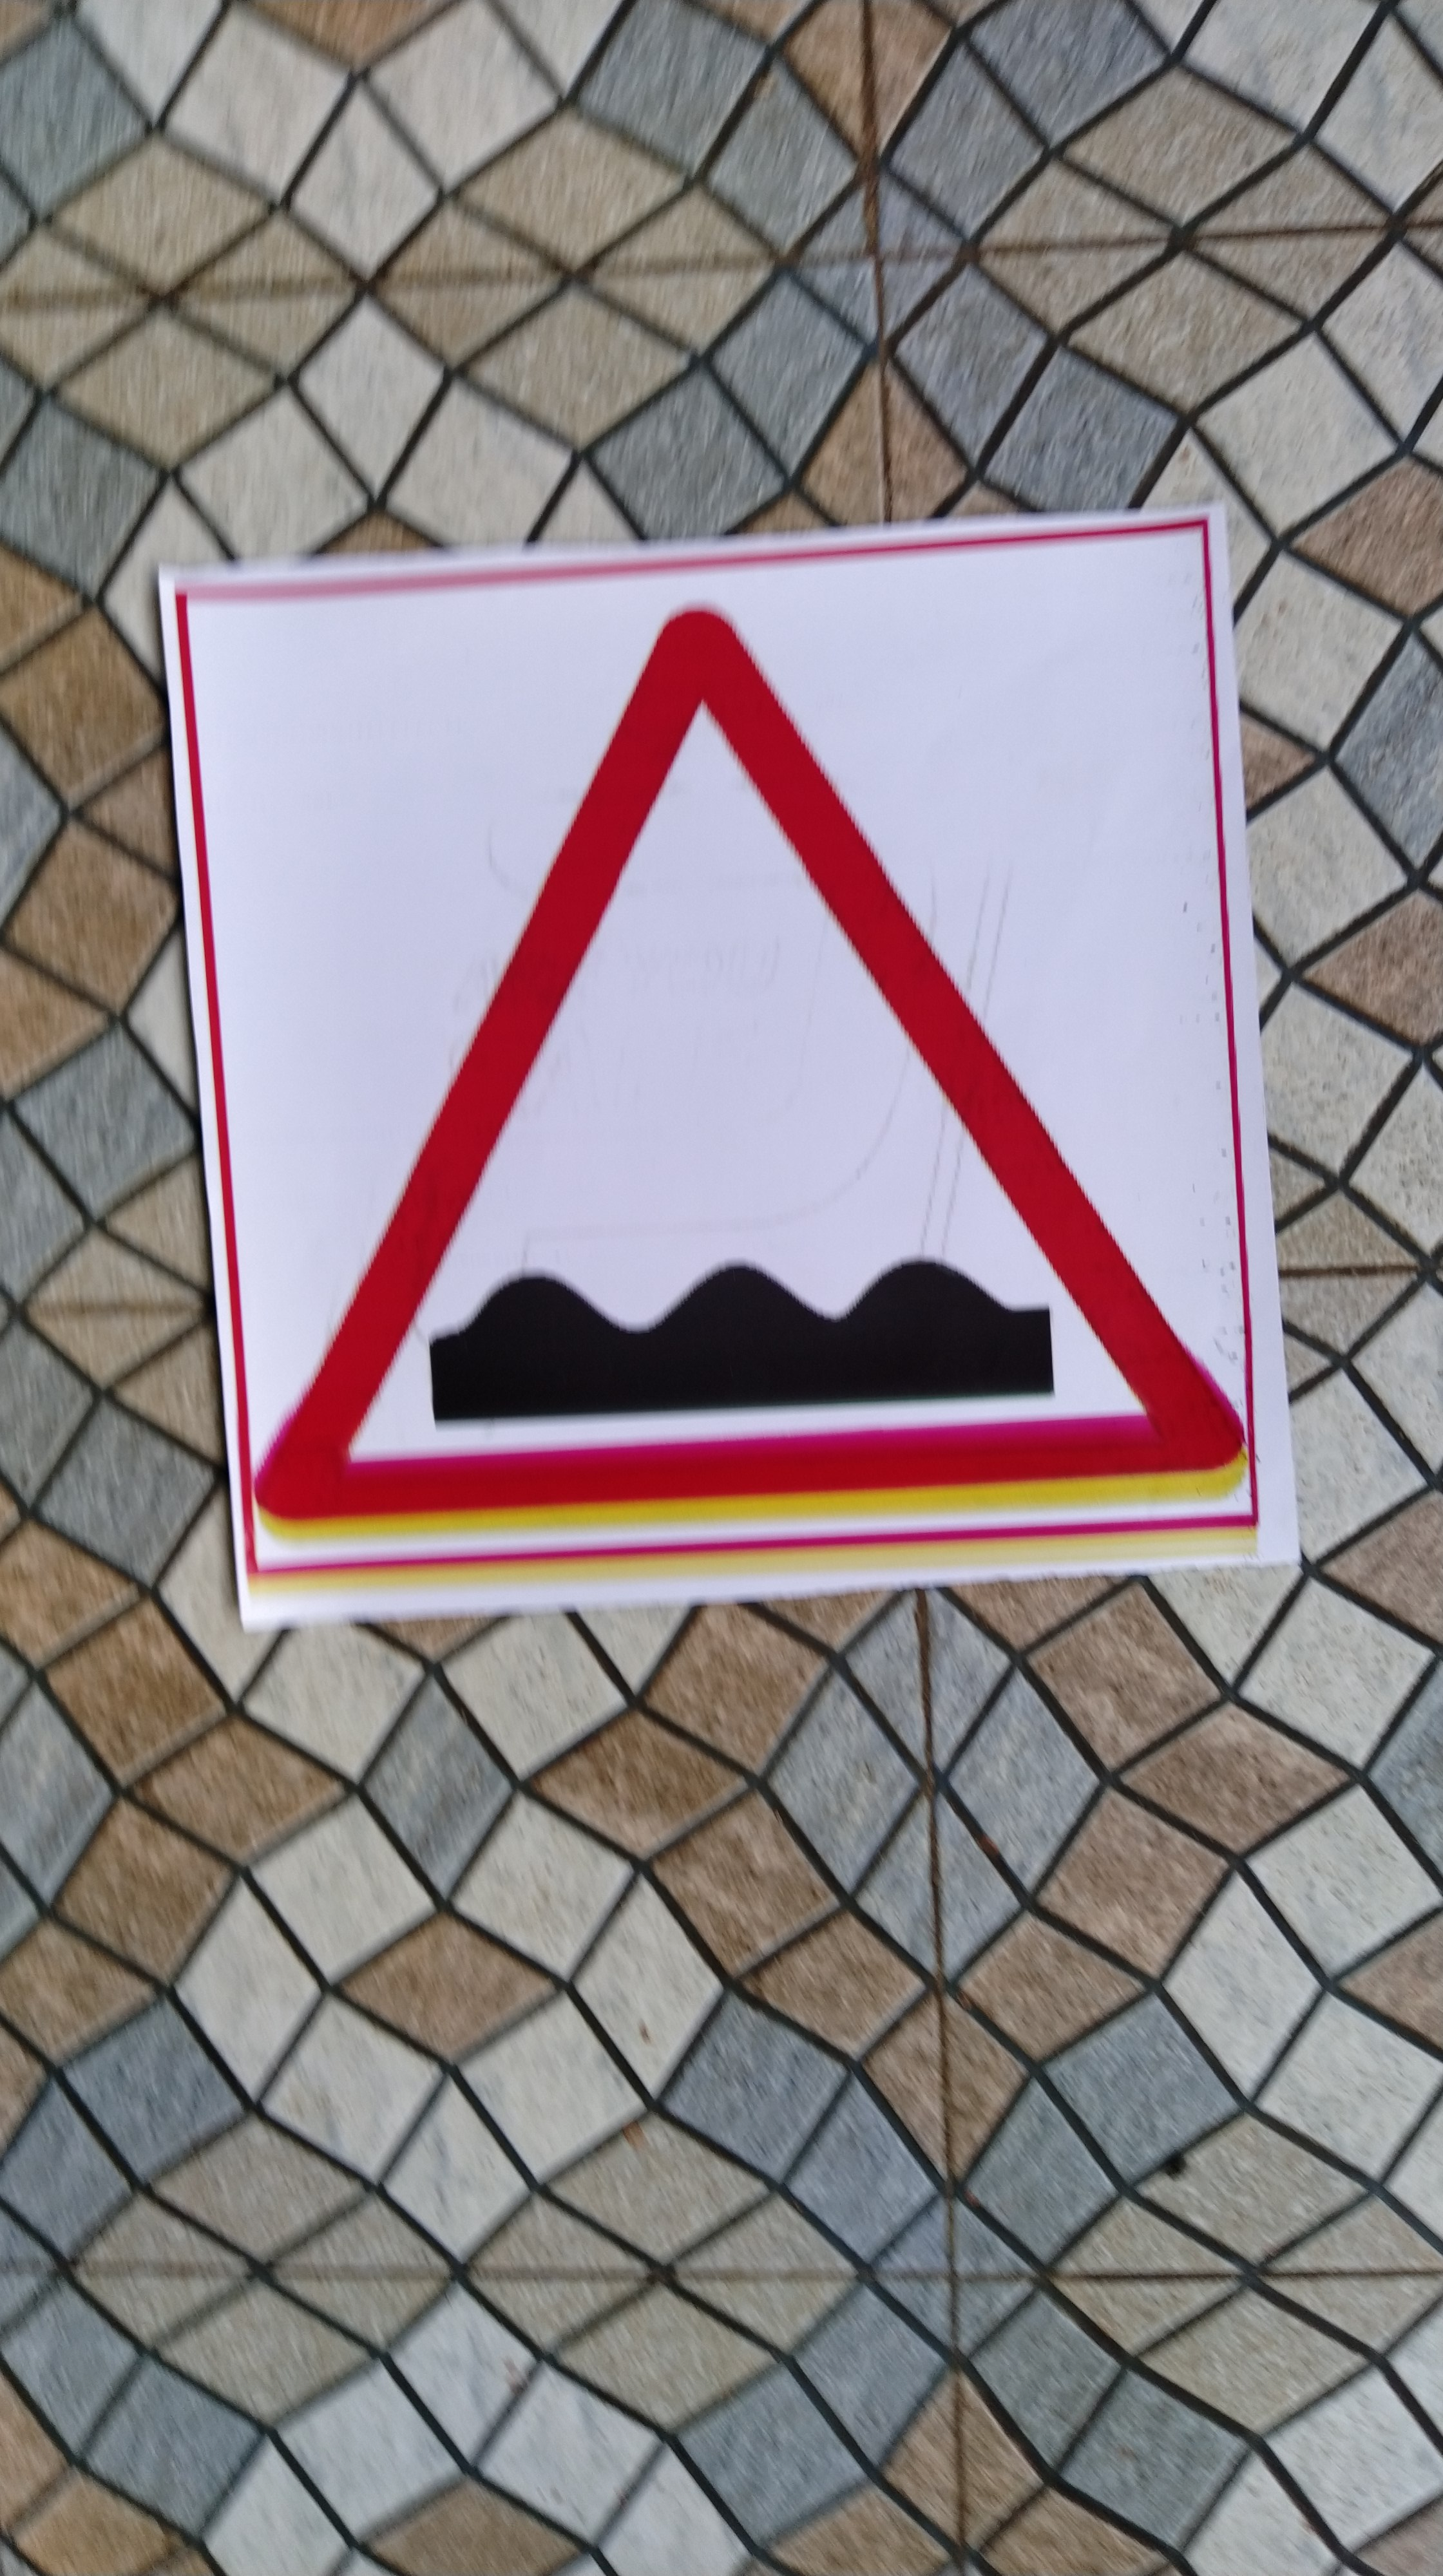speed breaker: (181, 589, 1282, 1568)
